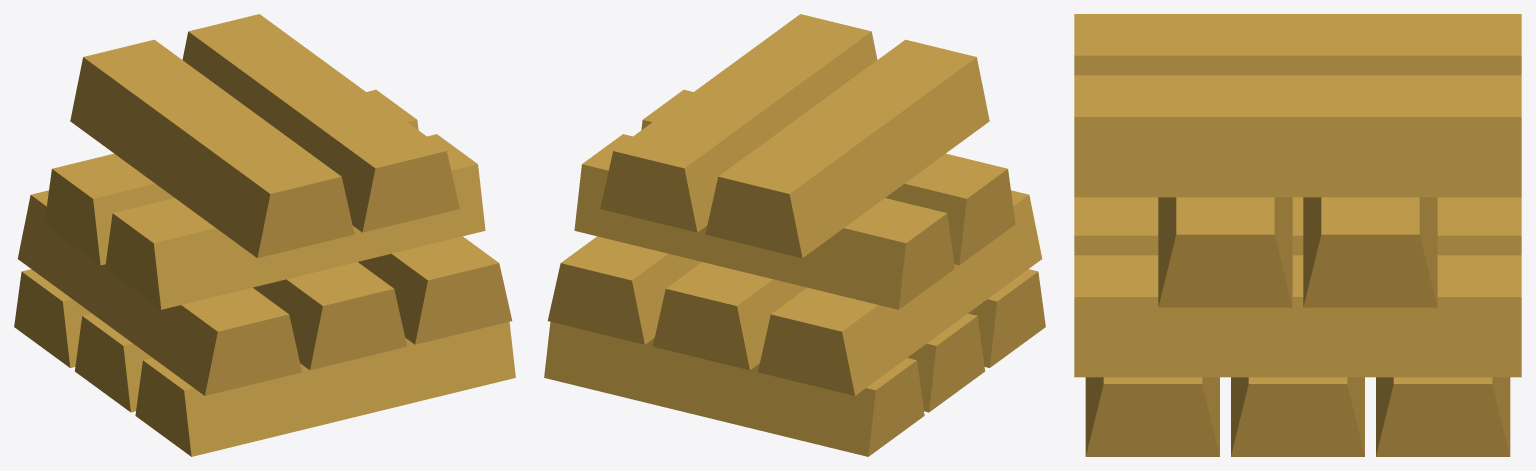
The model's file is prop_of_gold_bars.glb.
3 views of the same model, side by side, from view 1: azimuth 30°, elevation 25°; view 2: azimuth 150°, elevation 25°; view 3: azimuth 270°, elevation 25° (orthographic). The views are drawn at different scales.
Visible parts, largest first — view 1: Gold; view 2: Gold; view 3: Gold.
Boxes of the visible parts, bbox=[...] form: Gold: bbox=[14, 14, 515, 456]; Gold: bbox=[544, 14, 1045, 456]; Gold: bbox=[1074, 14, 1521, 456].
Size of the model in its own units: 0.25 by 0.183 by 0.25.
